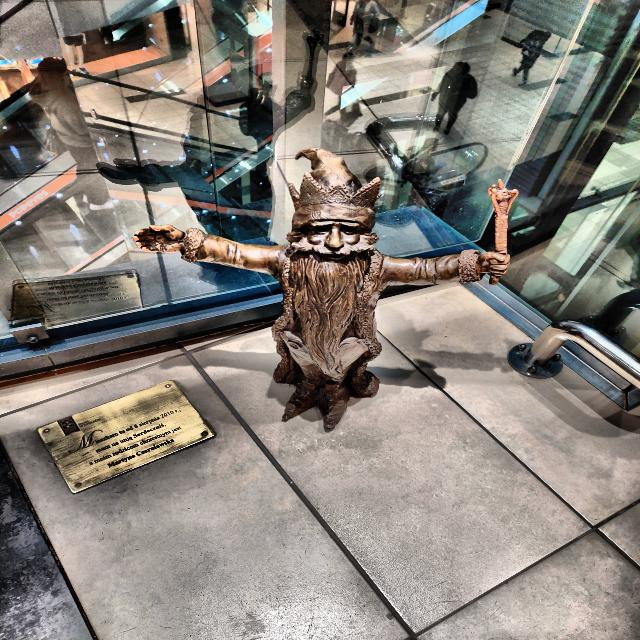Serdecznis: (133, 148, 518, 431)
